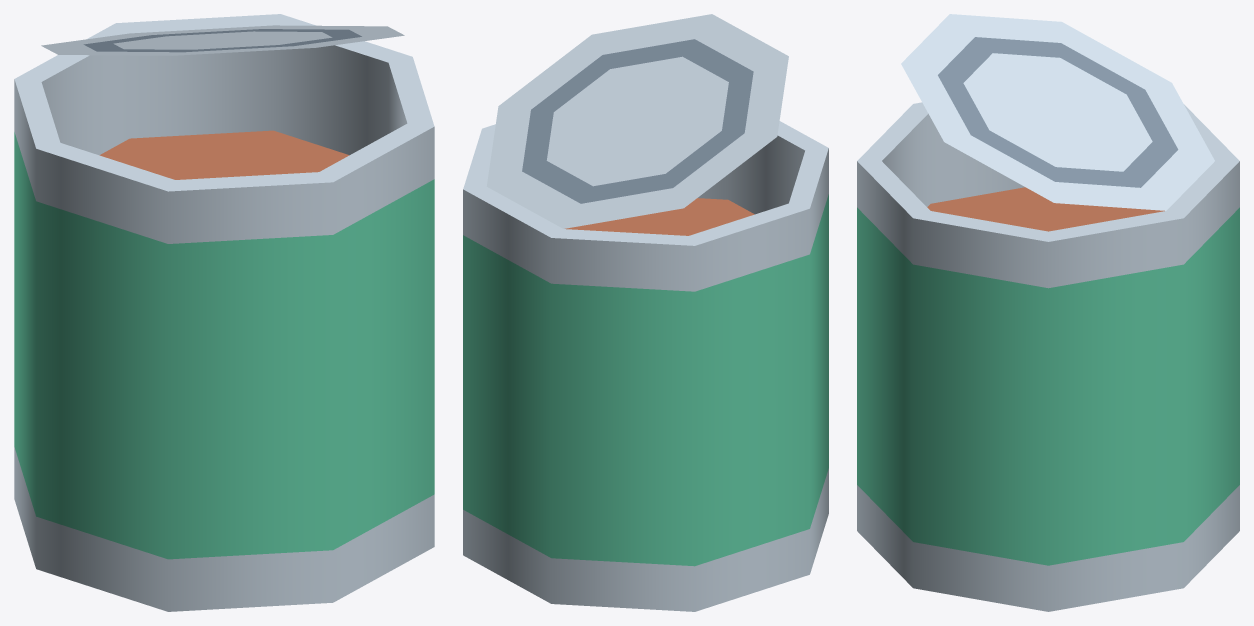
File: canOpen.GLB
3 renders of one model, left to right at view 1: azimuth 30°, elevation 25°; view 2: azimuth 150°, elevation 25°; view 3: azimuth 270°, elevation 25°, orthographic. The views are drawn at different scales.
Visible parts, largest first — view 1: canOpen; view 2: canOpen; view 3: canOpen.
Part boxes in pixels (x1,y1,x2,y2): canOpen: (14,14,434,611); canOpen: (463,14,828,611); canOpen: (857,14,1239,611).
Size of the model in its own units: 0.3 by 0.4071 by 0.3.
